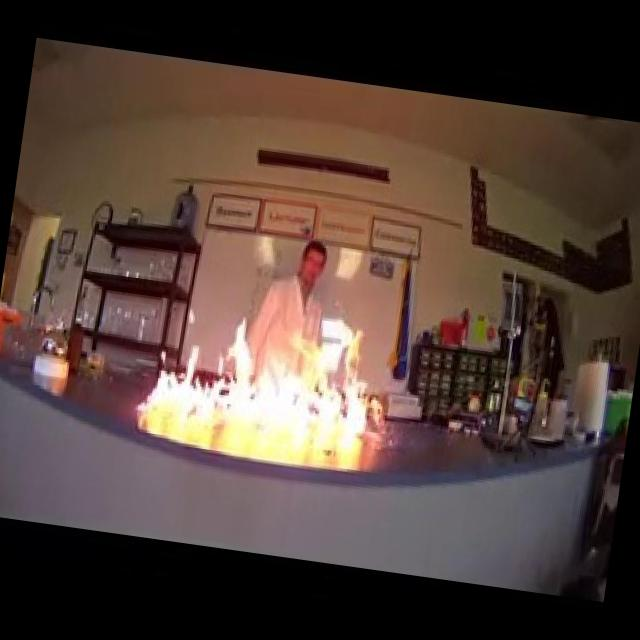Fire: (136, 292, 404, 451)
